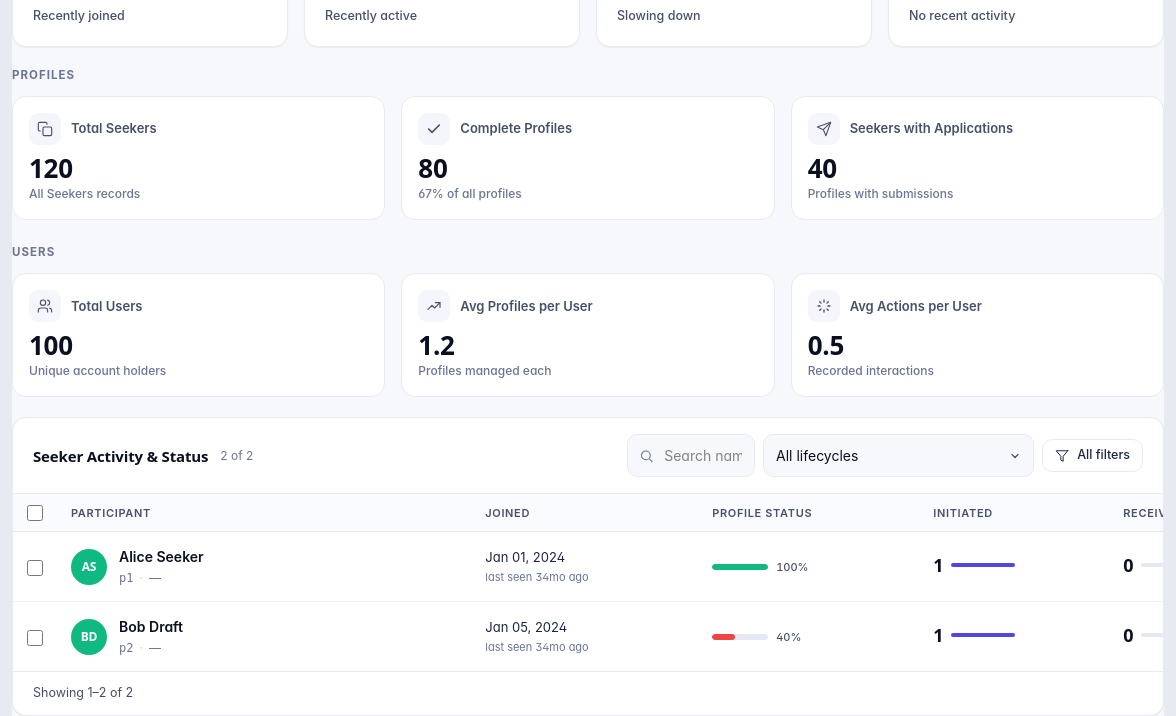
Test case: <DashboardPageRoot /> › status filter popover › labels the reset option distinctly from the lifecycle filter
(page scrolled)
Click the button "All filters".
click(1093, 456)  # box [1042,439,1143,472]
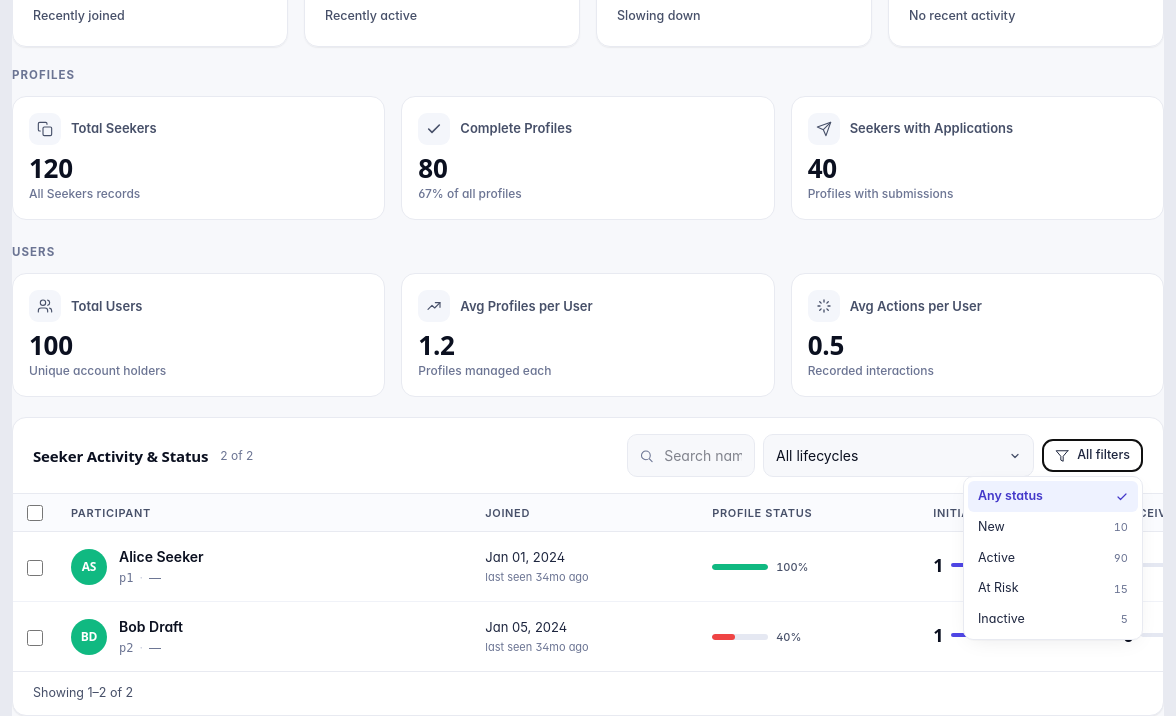
Result: the text "Any status" is shown at [978,487,1043,506]
